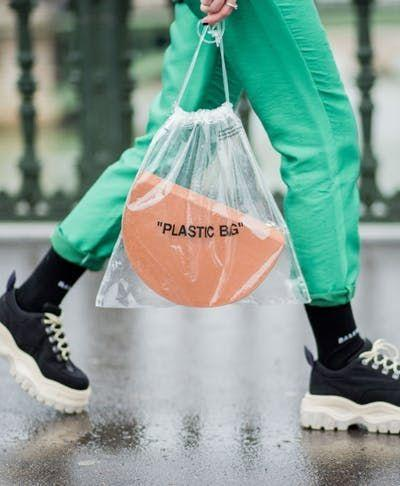PVC: (94, 102, 314, 308)
